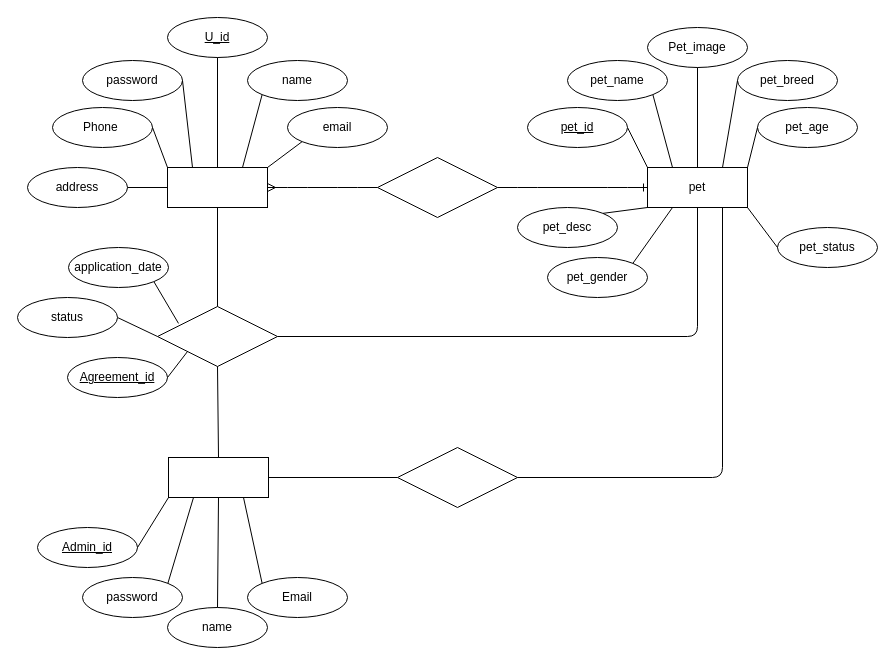
This 895x665 diagram has some shape labels left out. The shapes that lost their labels are listed below. From the top down, each one's box as (x1, y1, x2, y2) in pixels, then its label:
(166, 166, 268, 208): Adopter
(376, 156, 498, 218): Selects
(156, 306, 278, 366): agrees on
(168, 456, 268, 498): Admin/Shelter
(396, 446, 518, 508): adds
